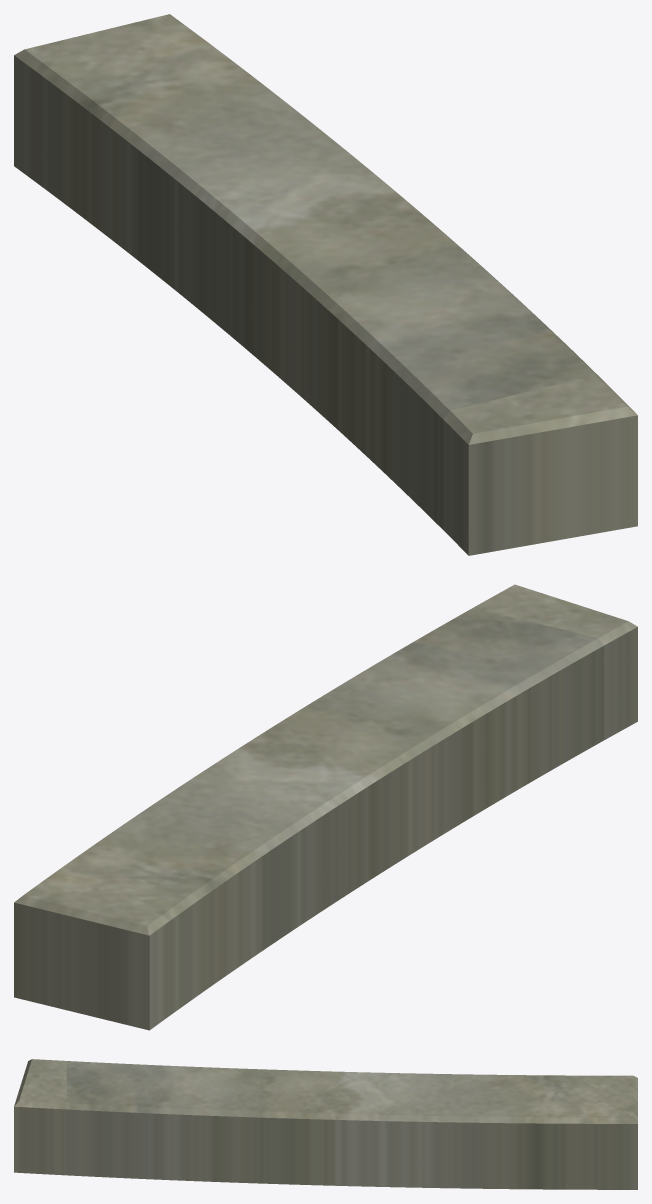
The model's file is f03-s-stone-pool-trim-1m.glb.
The picture shows the model from 3 angles, top to bottom: view 1: azimuth 30°, elevation 25°; view 2: azimuth 150°, elevation 25°; view 3: azimuth 270°, elevation 25°; orthographic projection. The views are drawn at different scales.
Parts seen in each view (by area): view 1: f03-s-stone-pool-trim-1m; view 2: f03-s-stone-pool-trim-1m; view 3: f03-s-stone-pool-trim-1m.
Boxes of the visible parts, box(x1,y1,x2,y2) form: f03-s-stone-pool-trim-1m: box(14, 14, 637, 555); f03-s-stone-pool-trim-1m: box(14, 584, 637, 1030); f03-s-stone-pool-trim-1m: box(14, 1059, 637, 1189).
Bounding box in the file's own units: 0.2598 × 0.135 × 1.09.
1 material, 1 textured.
